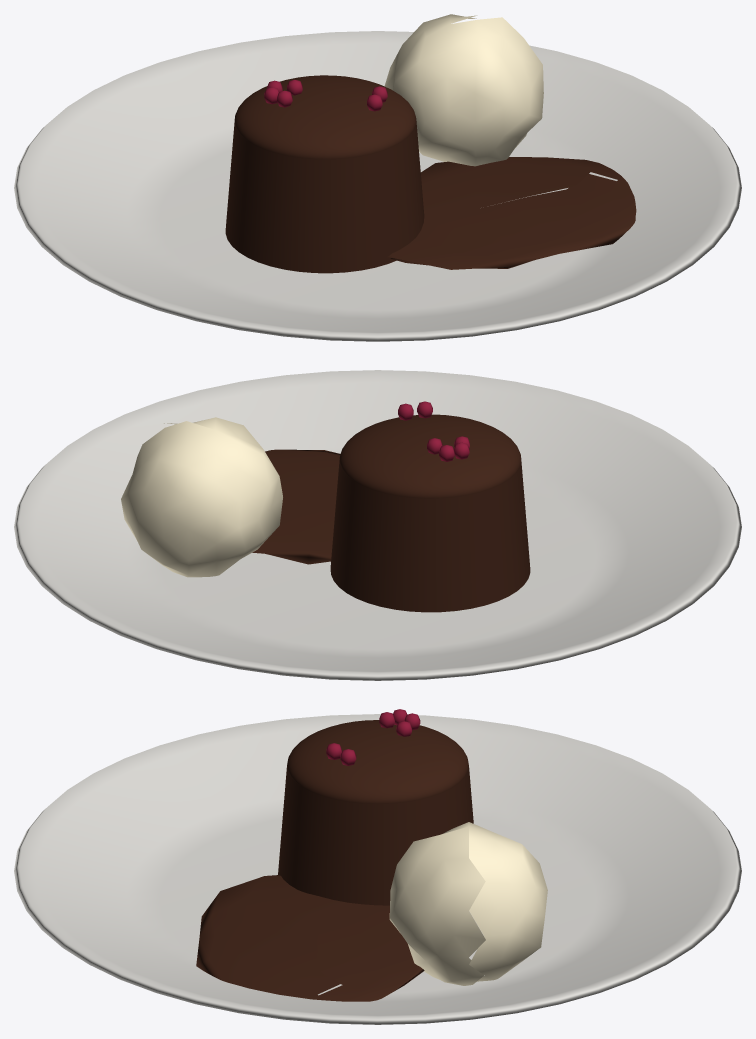
Rendered from petit-gateau.glb.
3 renders of one model, top to bottom at view 1: azimuth 30°, elevation 25°; view 2: azimuth 150°, elevation 25°; view 3: azimuth 270°, elevation 25°, orthographic.
Visible parts, largest first — view 1: petit-gateau; view 2: petit-gateau; view 3: petit-gateau.
Boxes of the visible parts, x1=… form: petit-gateau: x1=14, y1=14, x2=741, y2=341; petit-gateau: x1=14, y1=370, x2=741, y2=680; petit-gateau: x1=14, y1=709, x2=741, y2=1024.
Size of the model in its own units: 0.24 by 0.062 by 0.24.
